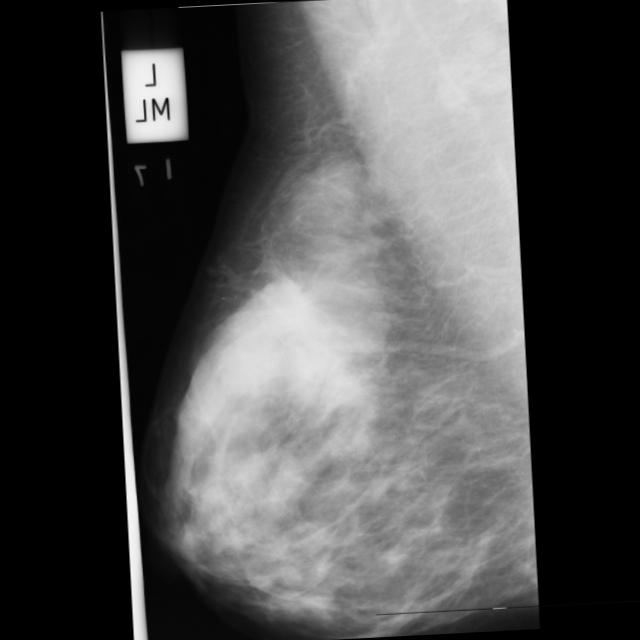ARCH: (130, 6, 218, 390)
